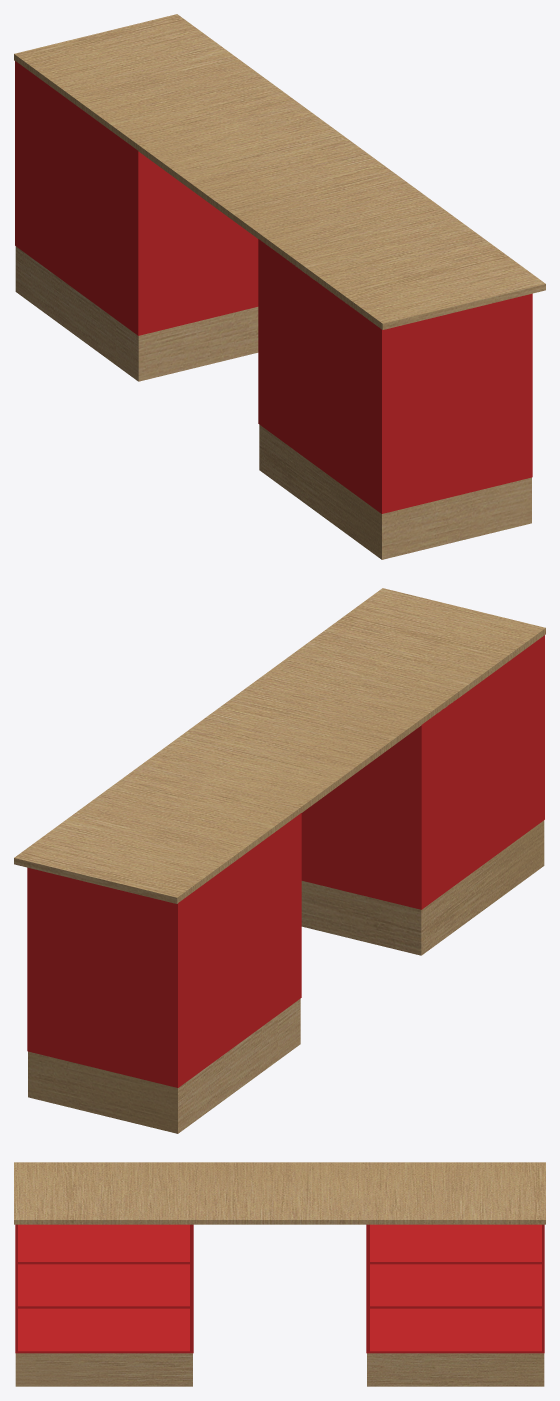
File: MOD_FUR_Kitchen_counter_02.fbx
3 views of the same model, one above another, from view 1: azimuth 30°, elevation 25°; view 2: azimuth 150°, elevation 25°; view 3: azimuth 270°, elevation 25° (orthographic). The views are drawn at different scales.
Parts seen in each view (by area): view 1: HSHP_MOD_Kitchen_counter_02; view 2: HSHP_MOD_Kitchen_counter_02; view 3: HSHP_MOD_Kitchen_counter_02.
Part boxes in pixels (x1,y1,x2,y2): HSHP_MOD_Kitchen_counter_02: [14, 14, 545, 559]; HSHP_MOD_Kitchen_counter_02: [14, 588, 545, 1133]; HSHP_MOD_Kitchen_counter_02: [14, 1162, 545, 1386].
Size of the model in its own units: 0.7707 by 1.07 by 3.01.
